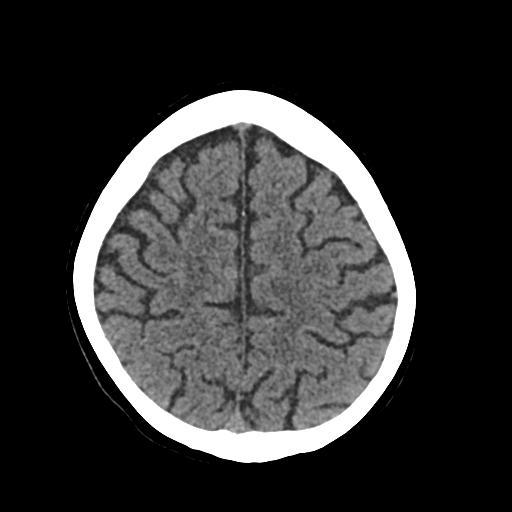Normal_Brain: (23, 30, 487, 503)
